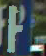Parking: (0, 1, 36, 54)
